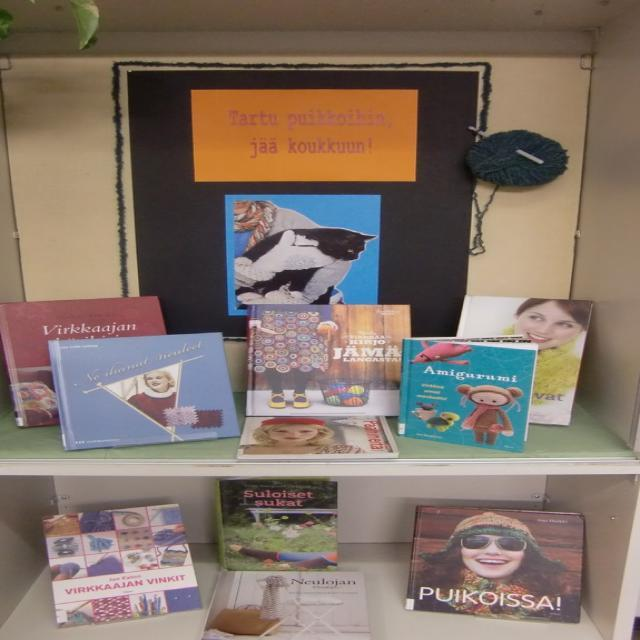book: (42, 331, 245, 457), (42, 495, 208, 635), (1, 297, 177, 429), (405, 506, 595, 621), (247, 306, 412, 419), (457, 291, 592, 427), (390, 339, 544, 454), (194, 569, 377, 640), (215, 479, 339, 575)
